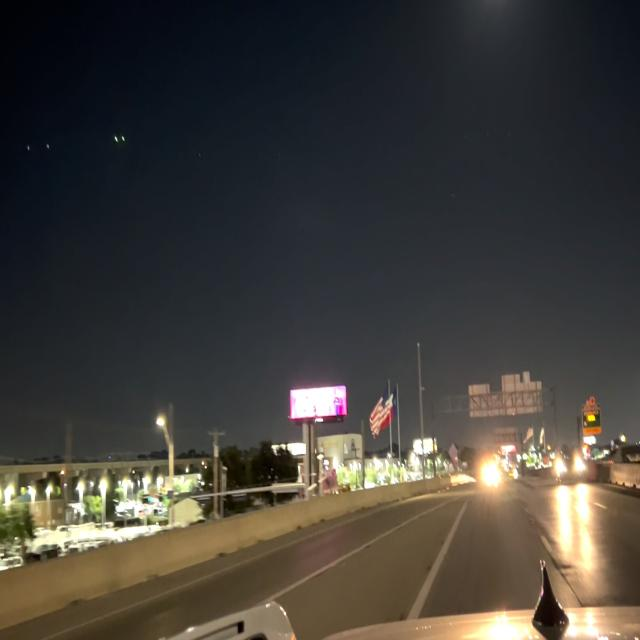back-of-sign: (466, 368, 545, 422)
